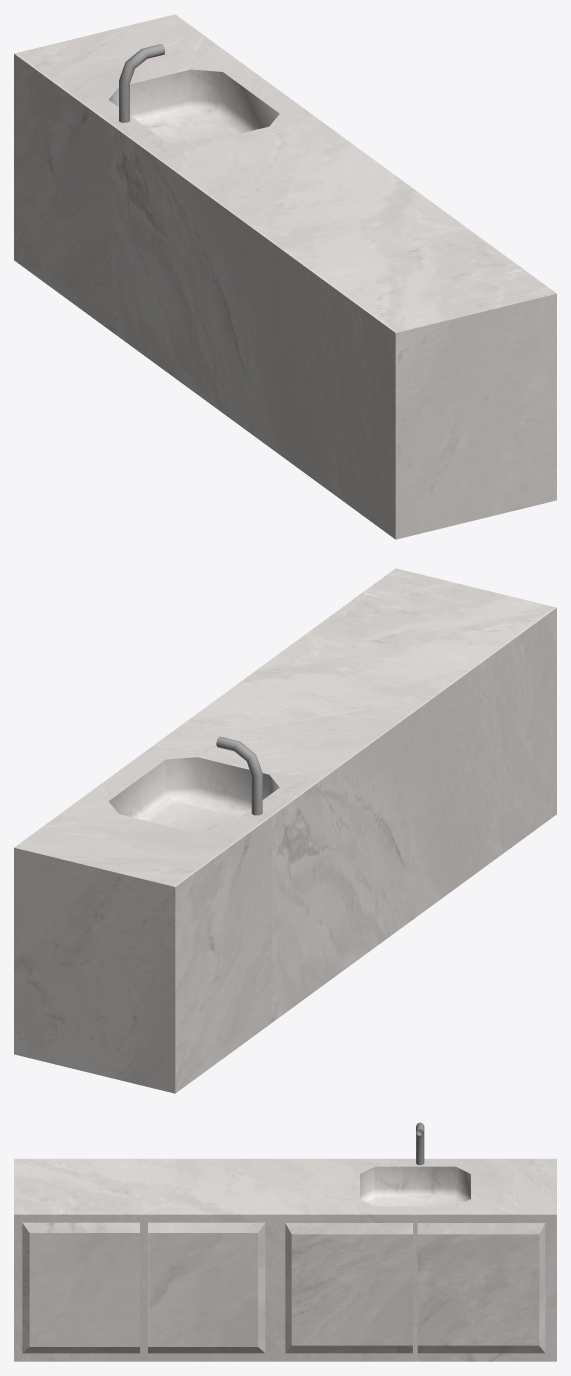
The model's file is DR_Basin 1.fbx.
3 views of the same model, one above another, from view 1: azimuth 30°, elevation 25°; view 2: azimuth 150°, elevation 25°; view 3: azimuth 270°, elevation 25° (orthographic). The views are drawn at different scales.
Visible parts, largest first — view 1: Sink, Vavle; view 2: Sink, Vavle; view 3: Sink, Vavle.
Boxes of the visible parts, x1=… form: Sink: x1=14, y1=14, x2=556, y2=539; Vavle: x1=119, y1=44, x2=165, y2=122; Sink: x1=14, y1=568, x2=556, y2=1093; Vavle: x1=216, y1=736, x2=262, y2=815; Sink: x1=14, y1=1158, x2=556, y2=1361; Vavle: x1=416, y1=1122, x2=424, y2=1165.
Bounding box in the file's own units: 298 × 468 × 1183.
